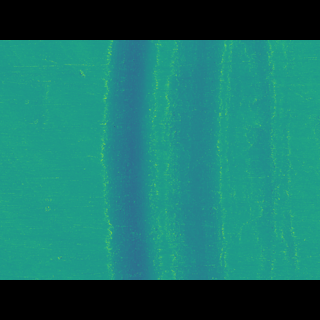Loch: (99, 70, 298, 250)
